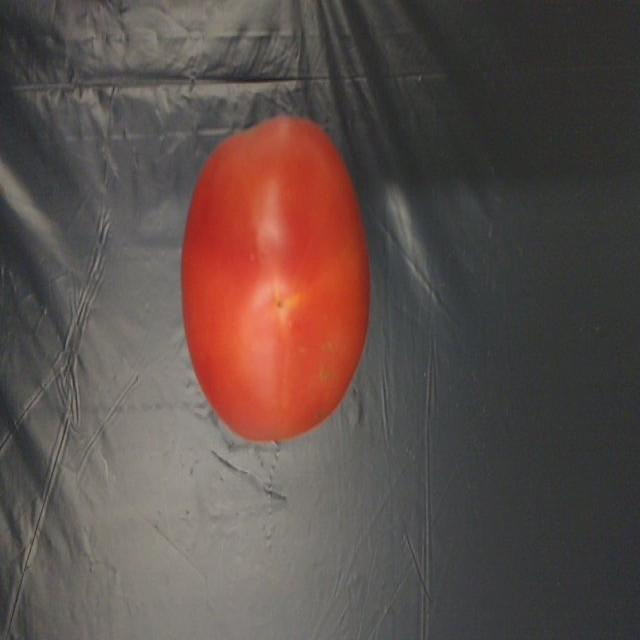kirmizi: (177, 176, 374, 430)
